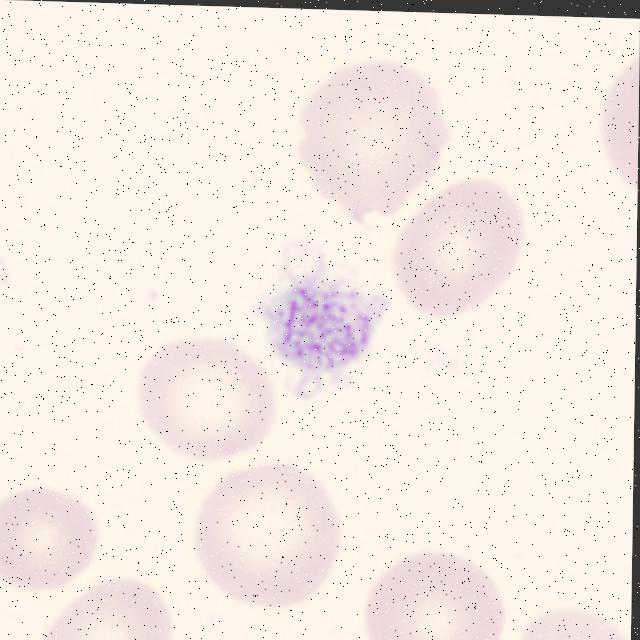platelets: (262, 266, 387, 385)
rbc: (291, 55, 453, 223), (186, 454, 348, 616), (136, 319, 293, 463), (389, 170, 534, 321), (356, 543, 506, 640), (0, 478, 108, 595), (34, 559, 180, 640), (582, 42, 639, 211), (512, 588, 631, 640)
